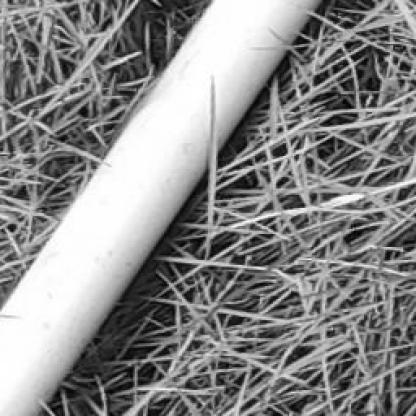PVC: (0, 4, 320, 414)
